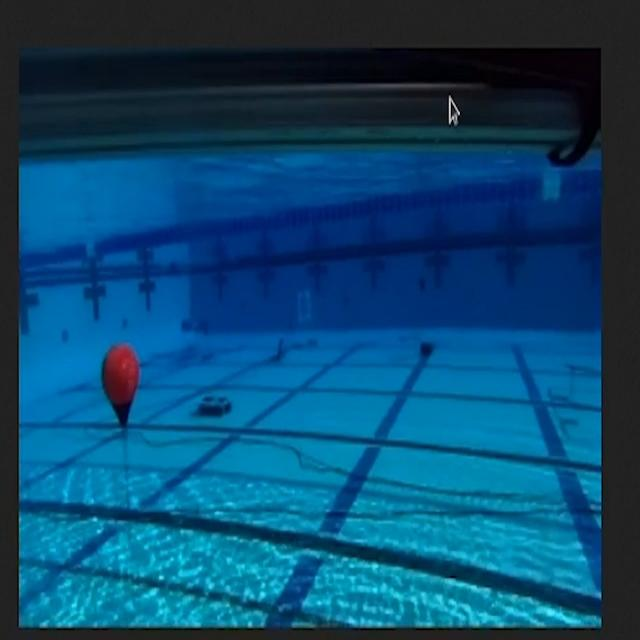Buoy: (102, 347, 144, 428)
